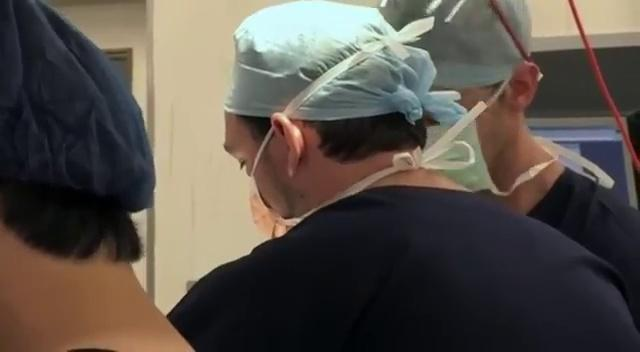doctor: (163, 0, 638, 350), (0, 0, 196, 351), (389, 0, 637, 228)
